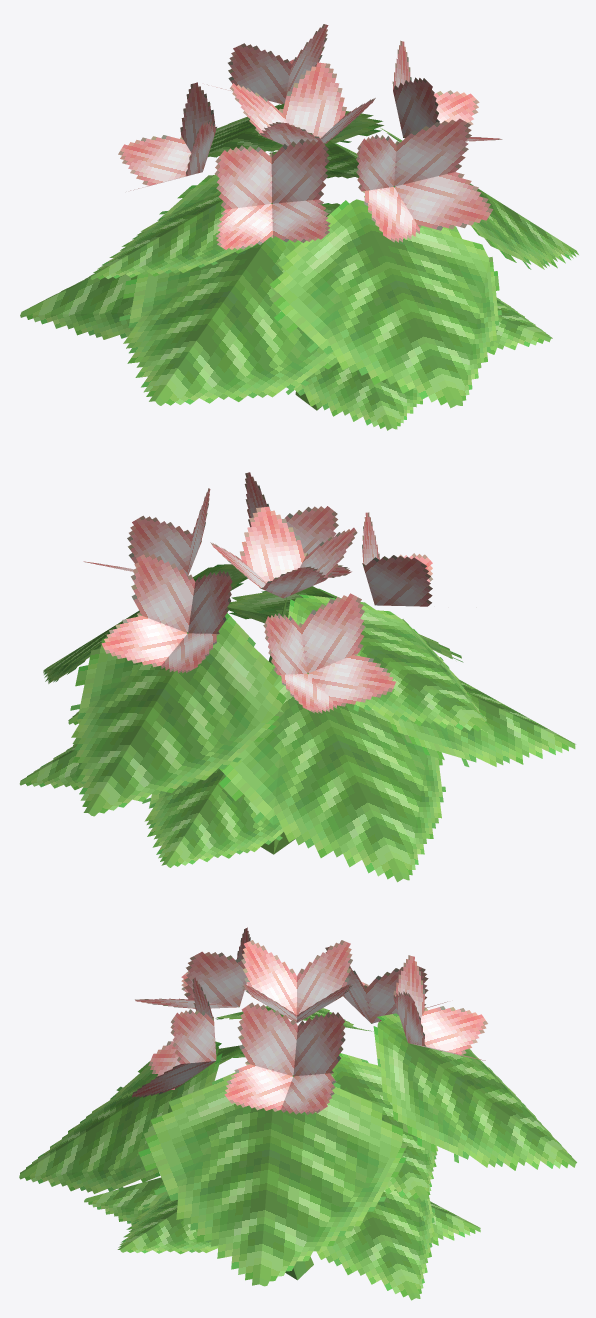
File: flowerpink.dae
3 views of the same model, one above another, from view 1: azimuth 30°, elevation 25°; view 2: azimuth 150°, elevation 25°; view 3: azimuth 270°, elevation 25° (orthographic). The views are drawn at different scales.
Parts seen in each view (by area): view 1: m0; view 2: m0; view 3: m0.
Boxes of the visible parts, x1,y1,x2,y2 form: m0: (20,24,578,430); m0: (19,472,575,882); m0: (19,927,576,1300).
Size of the model in its own units: 81.95 by 56.48 by 85.8.
Materials: 1 (1 with a texture image).
